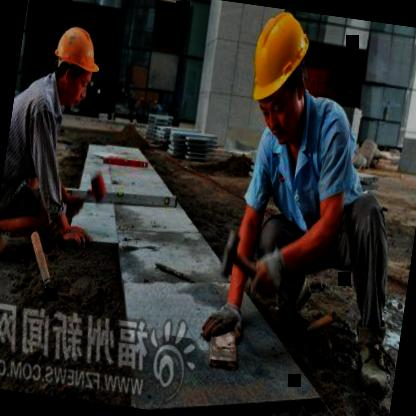helmet: (232, 4, 324, 151), (43, 17, 109, 113)
